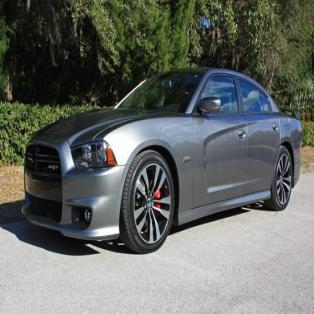Auto: (21, 62, 305, 258)
